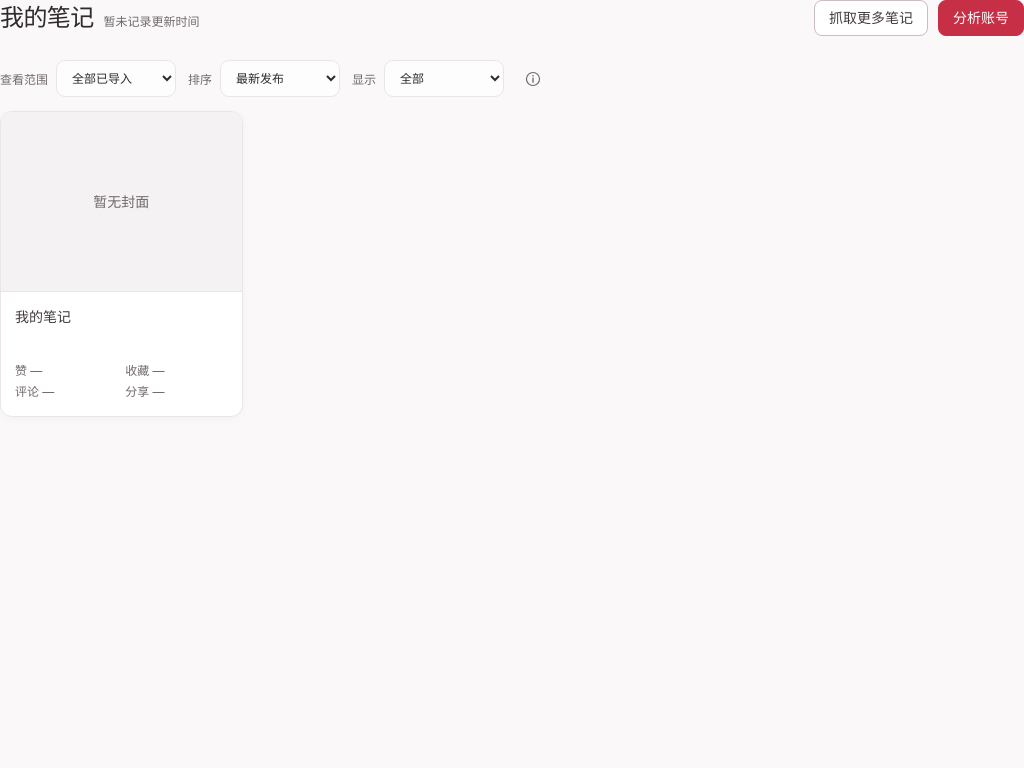
Test case: creator materials and diagnosis › keeps body and comments behind the note detail dialog
Expected: the text "完整正文" is not shown
Click the button "暂无封面 我的笔记 赞 — 收藏 — 评论 — 分享 —" at (121, 264), box [0,111,242,416]
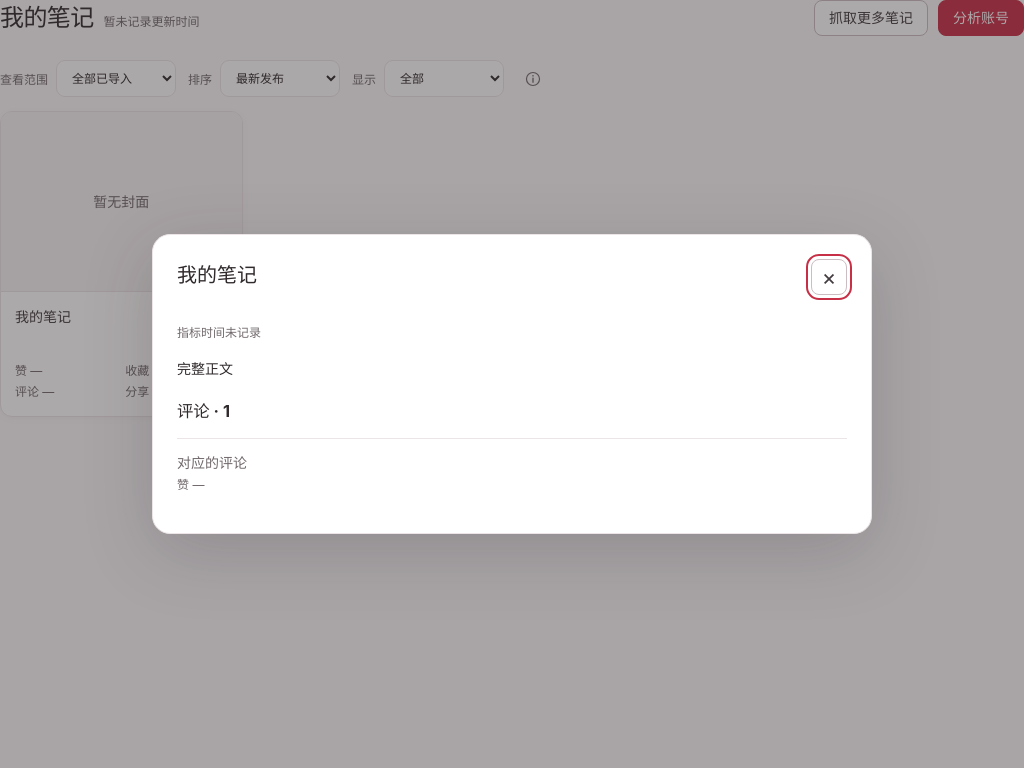
Expected: the dialog "我的笔记" is shown, [152,234,872,534]
Expected: the text "完整正文" is shown, [177,360,233,377]
Expected: the text "对应的评论" is shown, [177,454,247,471]
Click the button named "关闭" at (829, 277), box [811,259,847,295]
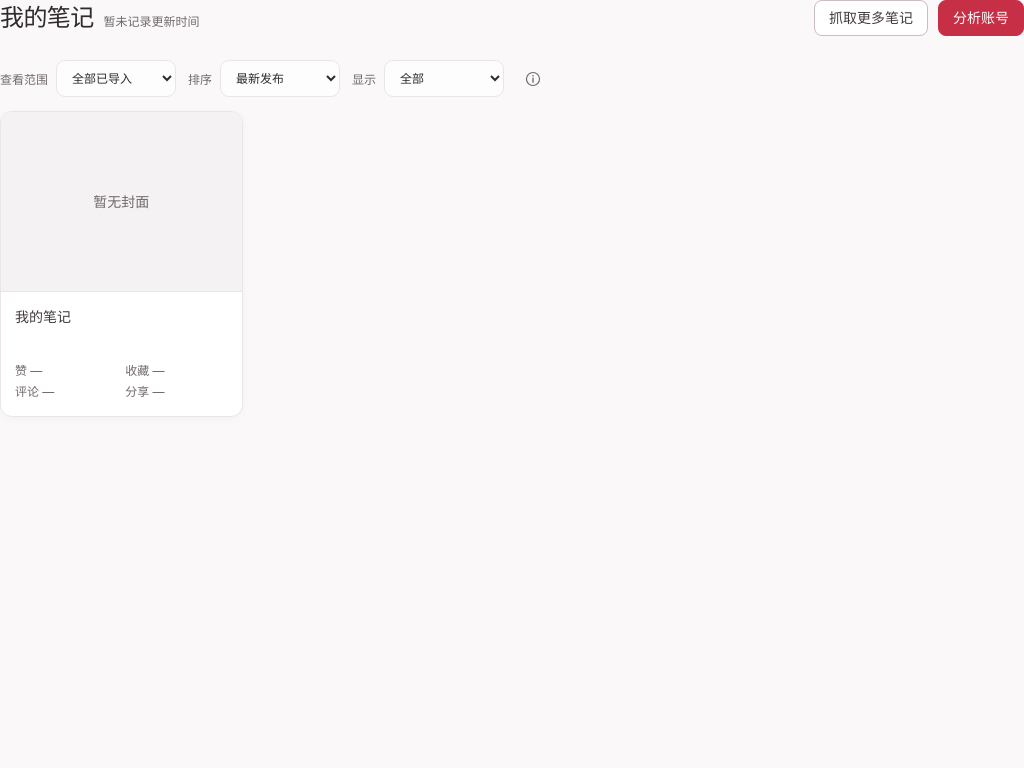
Expected: the text "完整正文" is gone
